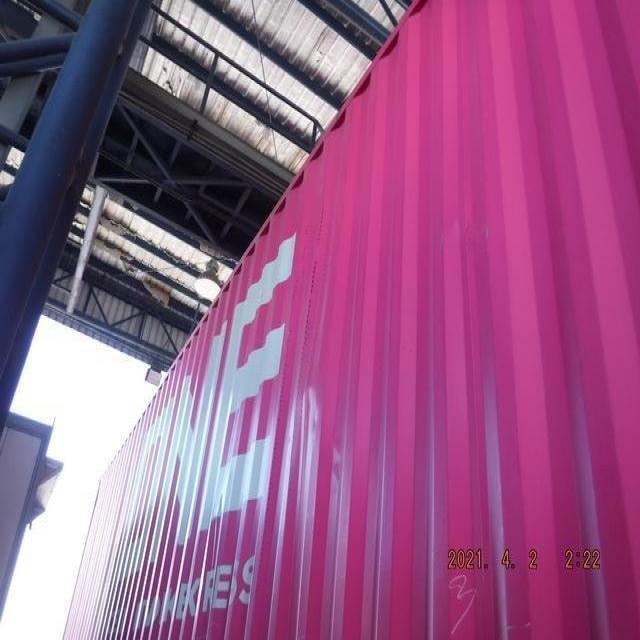dent: (283, 339, 354, 435), (204, 496, 231, 543)
